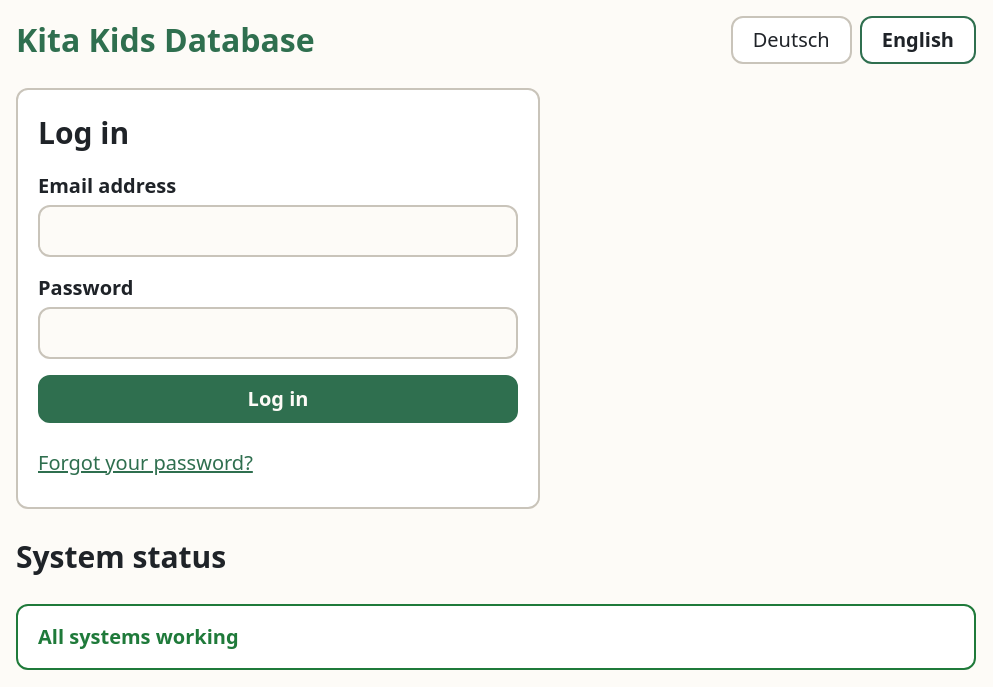
Scenario: forgotten password › asks for a reset link from the login form
Click the link "Forgot your password?": [145, 462] box [38,449,253,476]
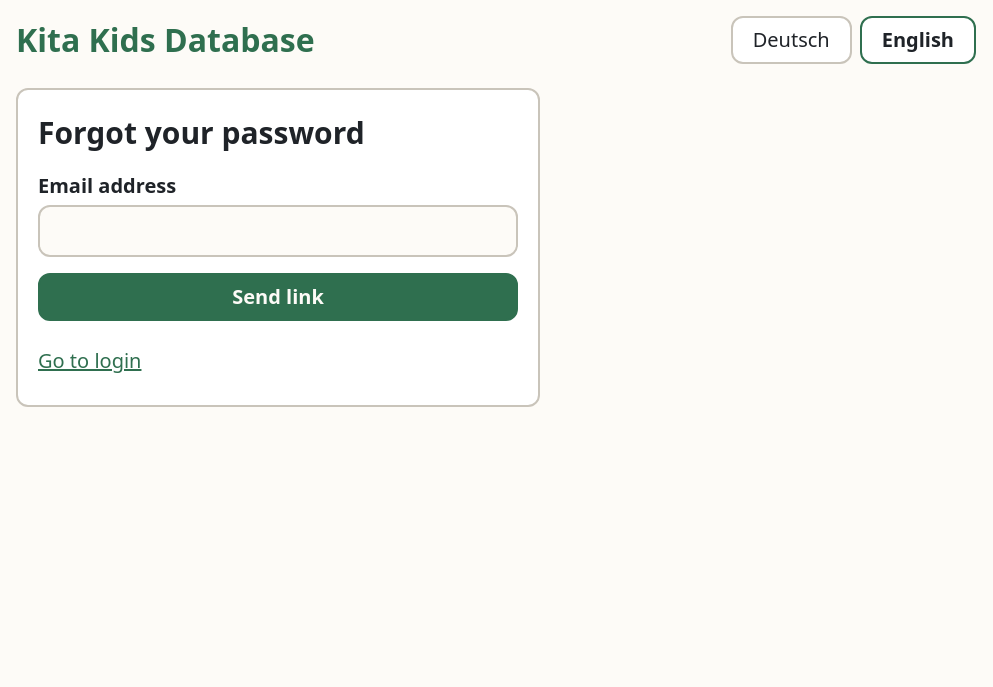
In the field labelled "Email address": [278, 231] box [38,205,518,257], type "erzieherin@kita.example"
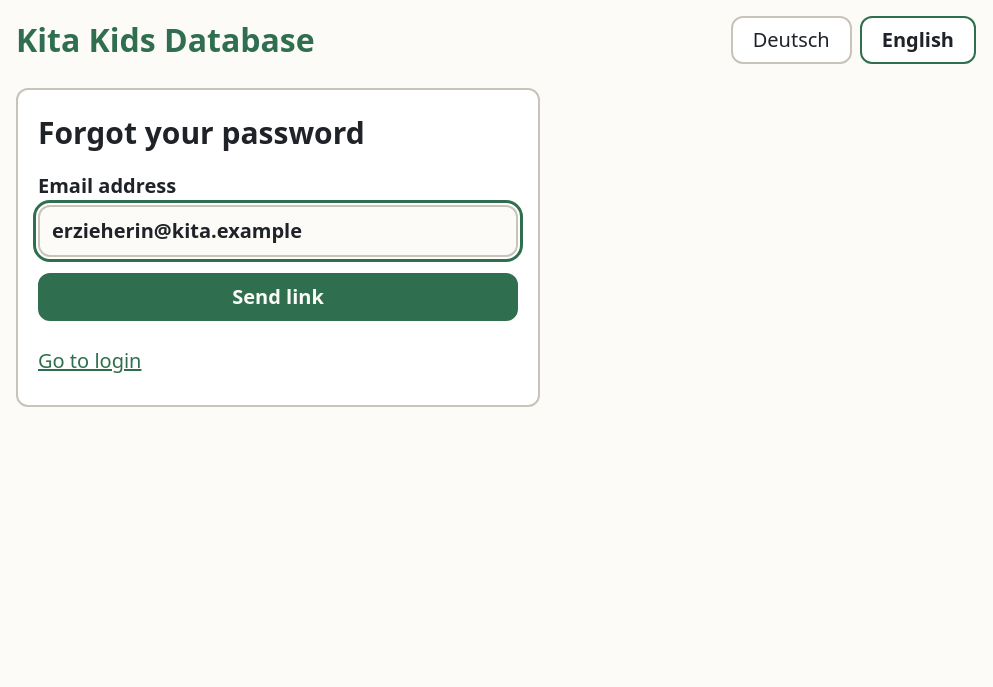
Click the button "Send link": [278, 297] box [38,273,518,321]
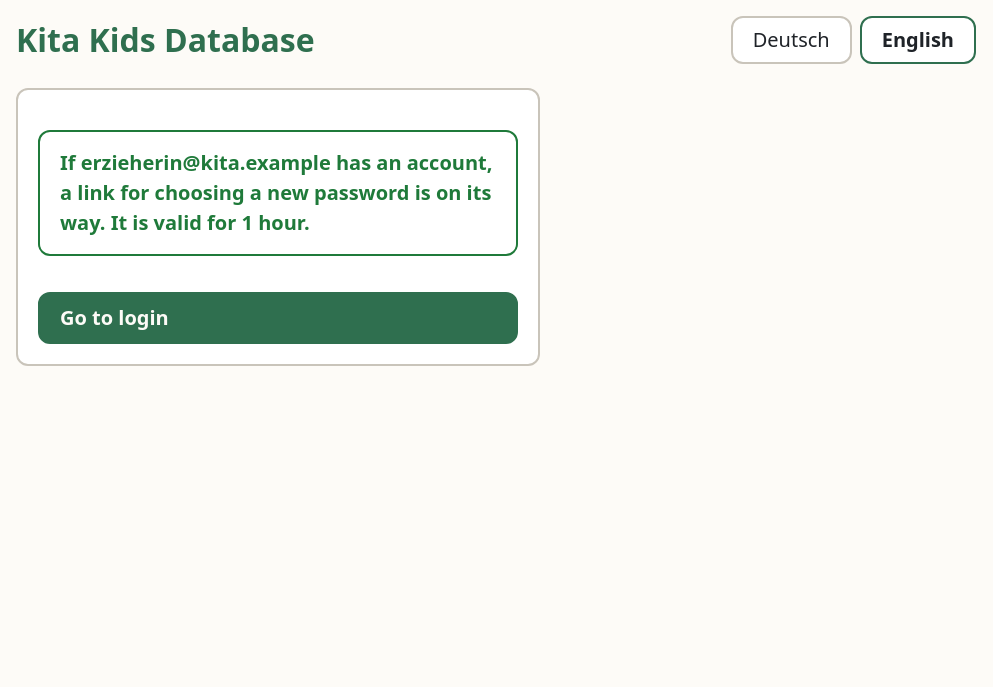
Now the message shows "If erzieherin@kita.example has an account, a link for choosing a new password is on its way. It is valid for 1 hour.", box [60,149,492,236]
